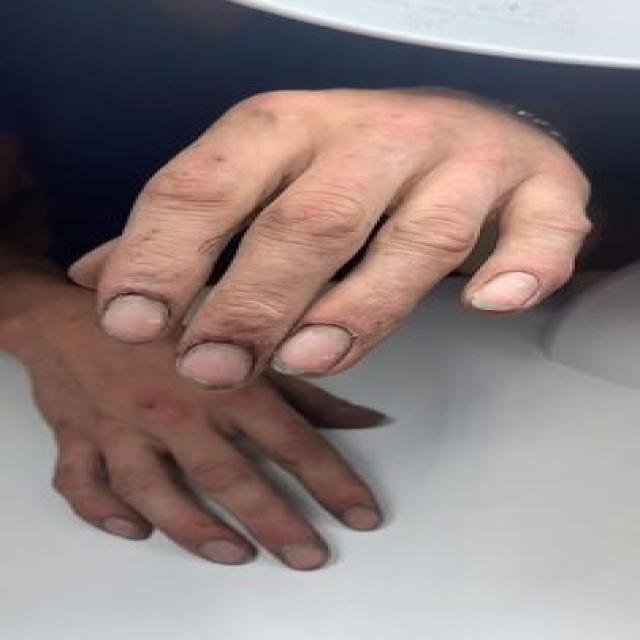Fingernail: (275, 325, 354, 374), (180, 341, 253, 390), (100, 293, 169, 343), (475, 271, 538, 312), (284, 542, 328, 570), (199, 540, 246, 564), (104, 516, 147, 539), (344, 505, 380, 531)
